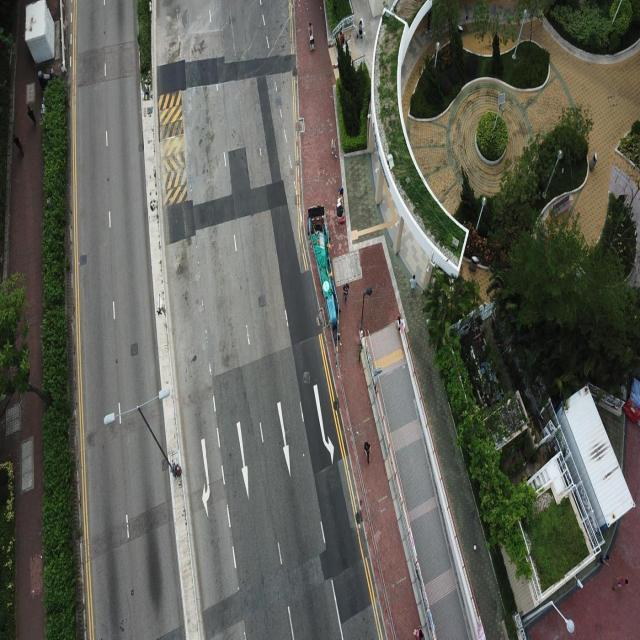p3rson: (27, 104, 38, 130), (613, 575, 629, 591), (14, 135, 24, 159), (363, 440, 372, 466), (409, 274, 418, 296), (597, 552, 611, 566), (342, 281, 350, 303), (412, 627, 425, 640), (330, 136, 337, 156), (356, 19, 363, 39), (307, 21, 314, 38), (336, 185, 344, 198), (339, 31, 344, 44)
